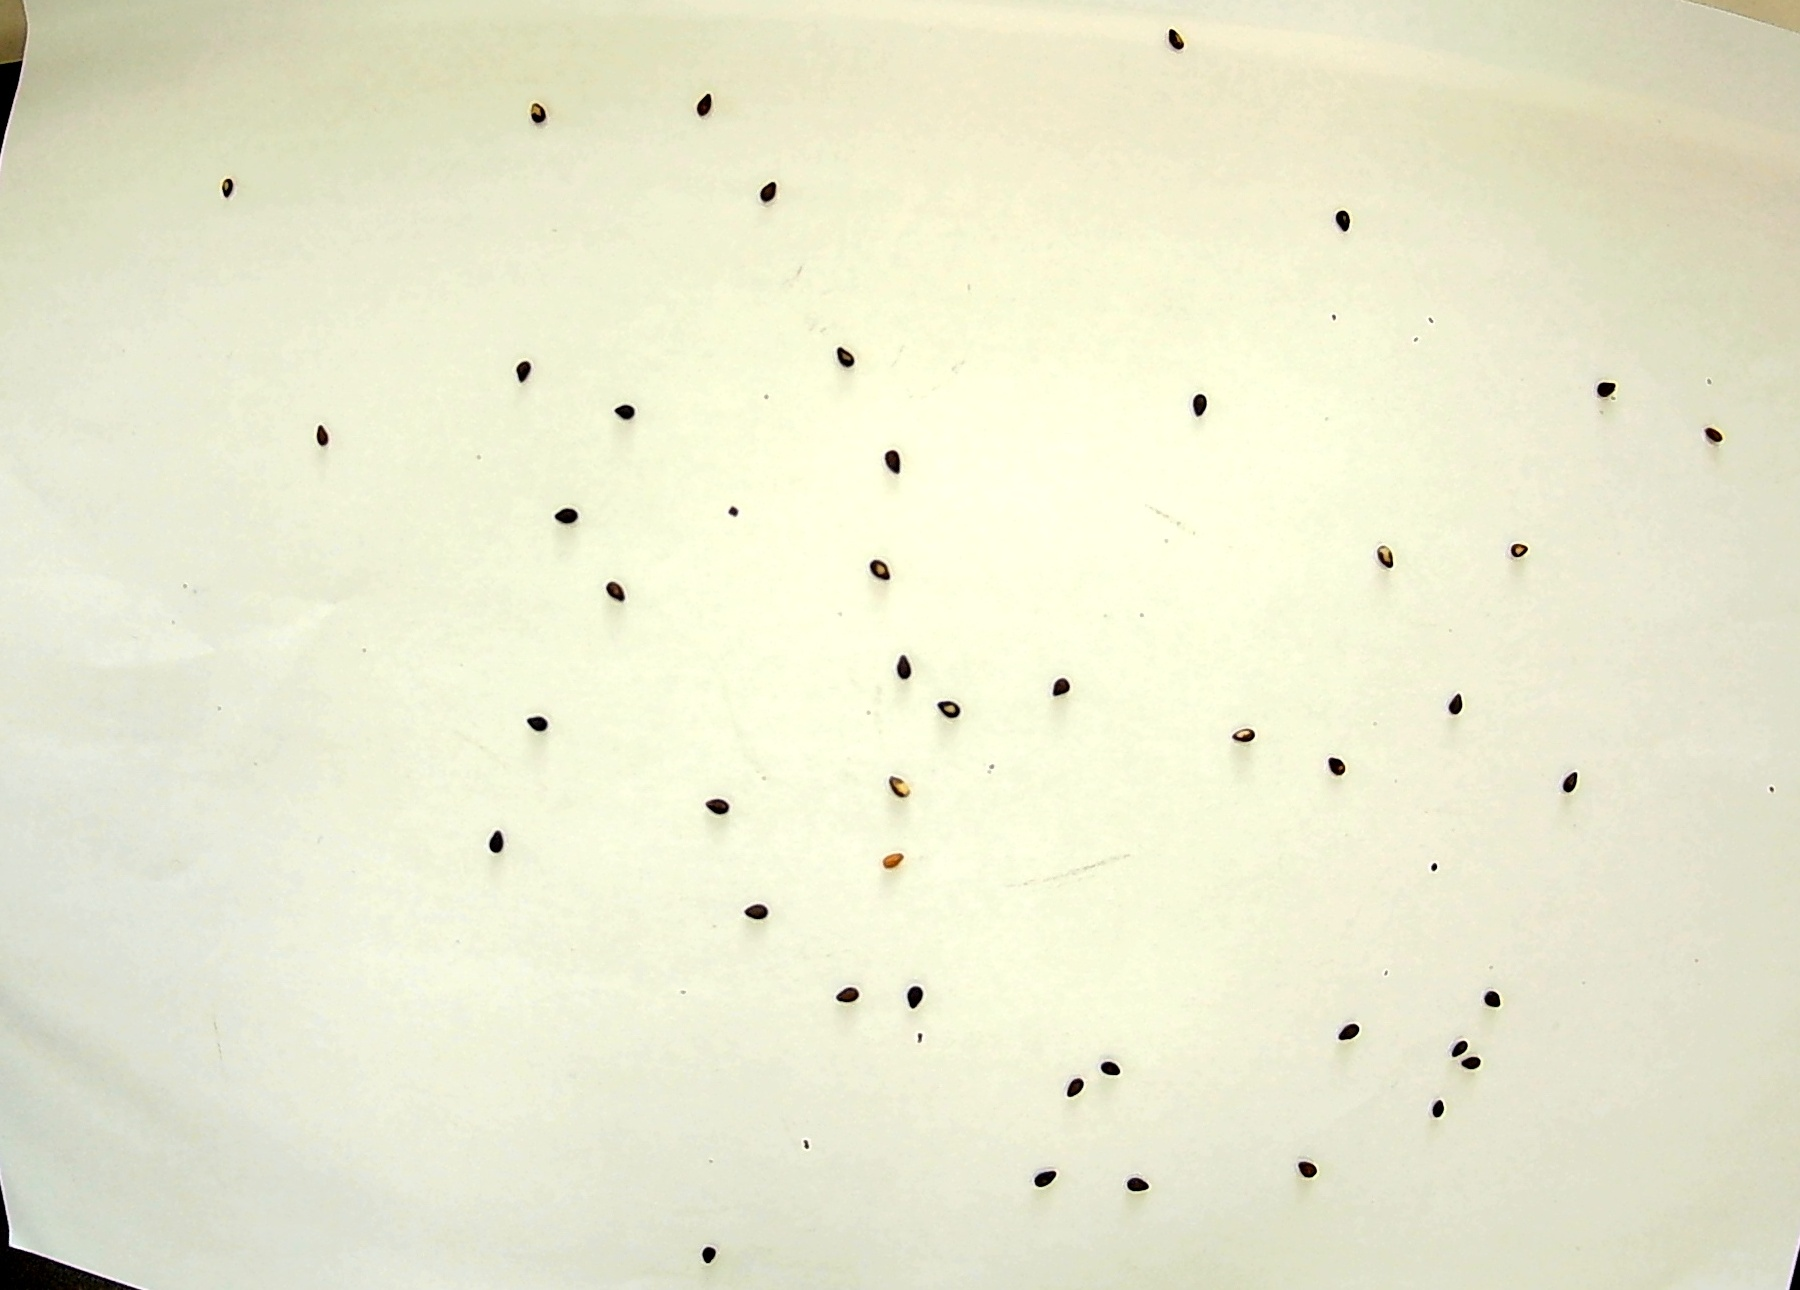sesami: (211, 166, 243, 207), (306, 415, 338, 455), (684, 80, 716, 120), (1157, 10, 1189, 50), (1340, 208, 1372, 249), (1592, 371, 1624, 412), (1702, 408, 1734, 448), (1369, 542, 1401, 582), (613, 391, 645, 431), (541, 503, 573, 543), (523, 699, 555, 740), (491, 820, 523, 860), (703, 787, 735, 828), (734, 880, 766, 920), (693, 1237, 726, 1277), (861, 539, 893, 579), (933, 683, 966, 723), (1037, 667, 1069, 708), (1446, 683, 1478, 723), (1561, 759, 1593, 800), (1473, 980, 1506, 1021), (1434, 1019, 1467, 1060), (1454, 1047, 1486, 1088), (1337, 1018, 1369, 1058), (1116, 1166, 1148, 1206), (1037, 1160, 1069, 1201), (1095, 1046, 1127, 1086), (880, 842, 913, 882), (893, 969, 925, 1009), (502, 350, 534, 390), (515, 94, 547, 133), (1511, 531, 1543, 570), (827, 339, 860, 378), (749, 170, 781, 209), (606, 568, 638, 607), (887, 644, 920, 683), (1233, 711, 1266, 750), (1321, 739, 1353, 778), (1288, 1139, 1320, 1178), (1060, 1062, 1093, 1102), (885, 769, 917, 808), (827, 974, 860, 1014), (878, 437, 908, 477), (1432, 1085, 1462, 1125), (1185, 378, 1215, 417)
